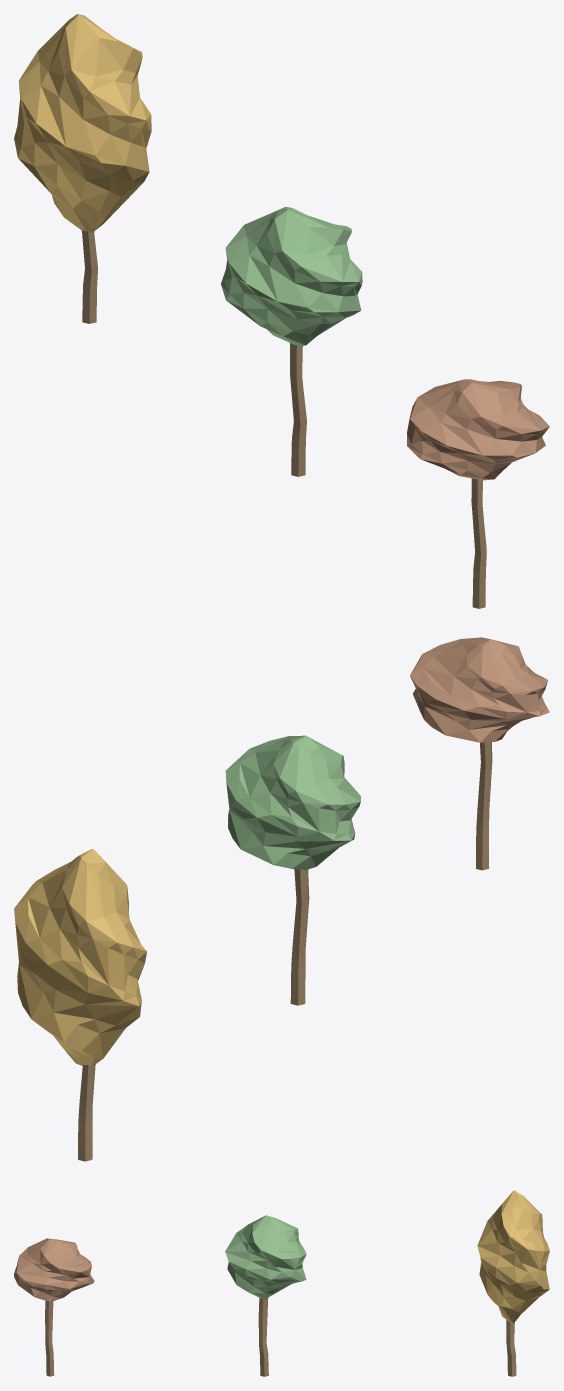
Rendered from twistedtrees.glb.
3 views of the same model, one above another, from view 1: azimuth 30°, elevation 25°; view 2: azimuth 150°, elevation 25°; view 3: azimuth 270°, elevation 25° (orthographic). The views are drawn at different scales.
Parts seen in each view (by area): view 1: pCube3, pCube1, pCube2, pCylinder1, pCylinder2, pCylinder3; view 2: pCube3, pCube1, pCube2, pCylinder1, pCylinder2, pCylinder3; view 3: pCube3, pCube1, pCube2, pCylinder1, pCylinder2, pCylinder3.
Part boxes in pixels (x1=…): pCube3: x1=14, y1=14, x2=151, y2=232; pCube1: x1=221, y1=206, x2=362, y2=346; pCube2: x1=407, y1=379, x2=549, y2=480; pCylinder1: x1=290, y1=343, x2=306, y2=476; pCylinder2: x1=471, y1=478, x2=486, y2=608; pCylinder3: x1=82, y1=230, x2=97, y2=323; pCube3: x1=14, y1=849, x2=146, y2=1066; pCube1: x1=225, y1=735, x2=361, y2=870; pCube2: x1=410, y1=637, x2=549, y2=742; pCylinder1: x1=290, y1=869, x2=309, y2=1005; pCylinder2: x1=476, y1=742, x2=492, y2=870; pCylinder3: x1=78, y1=1064, x2=95, y2=1161; pCube3: x1=477, y1=1190, x2=549, y2=1322; pCube1: x1=225, y1=1215, x2=306, y2=1298; pCube2: x1=14, y1=1238, x2=94, y2=1301; pCylinder1: x1=258, y1=1298, x2=268, y2=1376; pCylinder2: x1=45, y1=1300, x2=54, y2=1376; pCylinder3: x1=506, y1=1320, x2=516, y2=1376.
Size of the model in its own units: 0.0234 by 0.0567 by 0.1513.
